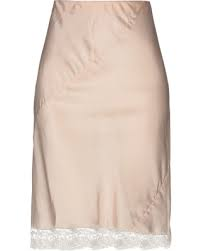C_skirt: (22, 1, 183, 250)
